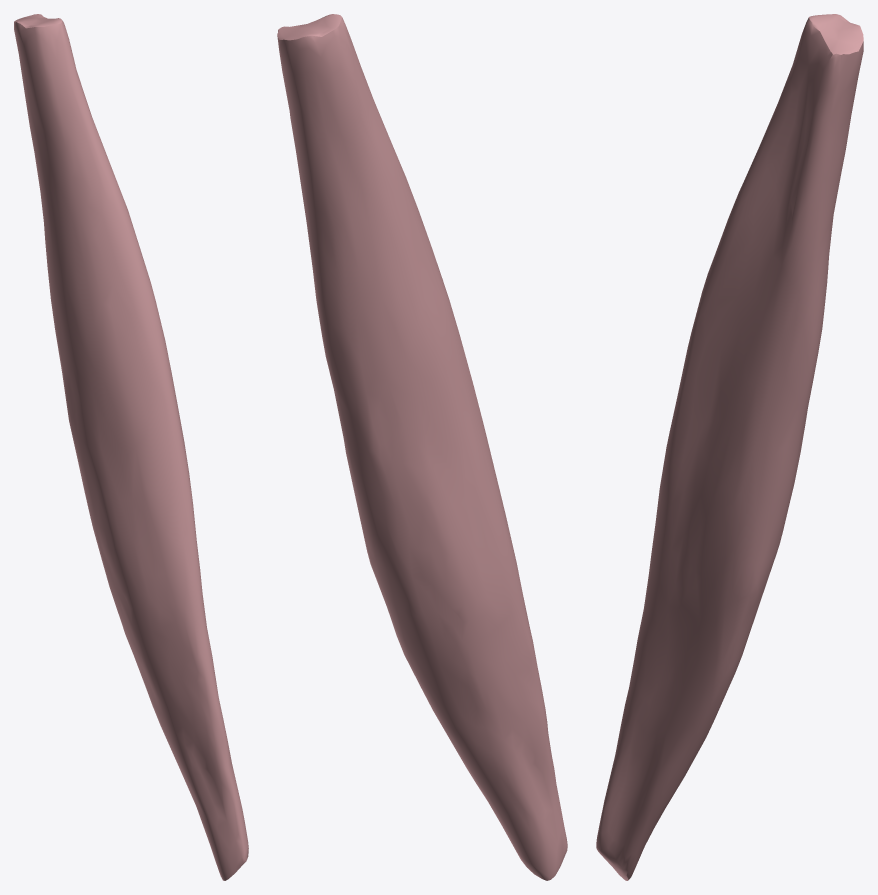
Rendered from fma297628_mm1866.glb.
The picture shows the model from 3 angles, left to right: view 1: azimuth 90°, elevation 25°; view 2: azimuth 150°, elevation 25°; view 3: azimuth 270°, elevation 25°; orthographic projection. The views are drawn at different scales.
Visible parts, largest first — view 1: FMA297628_MM1866; view 2: FMA297628_MM1866; view 3: FMA297628_MM1866.
Part boxes in pixels (x1=…): FMA297628_MM1866: x1=14, y1=14, x2=248, y2=880; FMA297628_MM1866: x1=277, y1=14, x2=567, y2=880; FMA297628_MM1866: x1=596, y1=14, x2=863, y2=880.
Bounding box in the file's own units: 0.0295 × 0.1471 × 0.0387.
